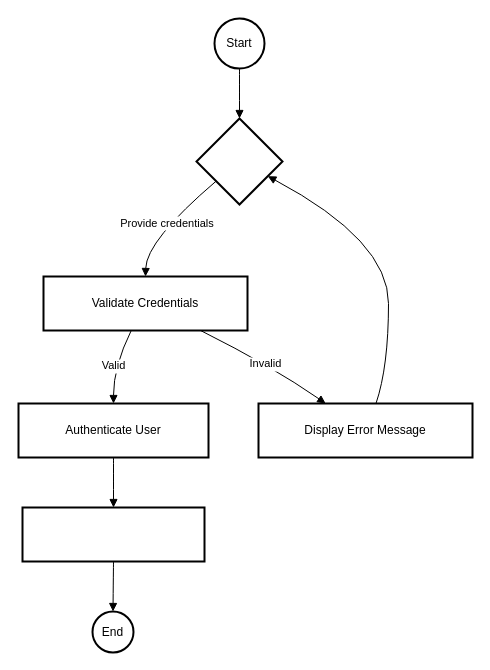
This 490x670 diagram has some shape labels left out. Each missing label, with the centre of its shape:
"Load User Profile" goes at point (113, 534).
"User" goes at point (239, 161).
